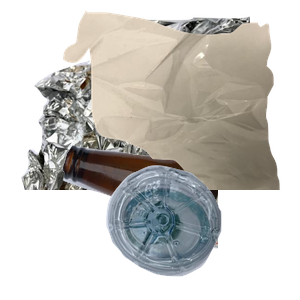glass: (60, 142, 300, 300)
metal: (19, 14, 259, 194)
plastic: (104, 163, 300, 300)
trash: (61, 10, 300, 190)
